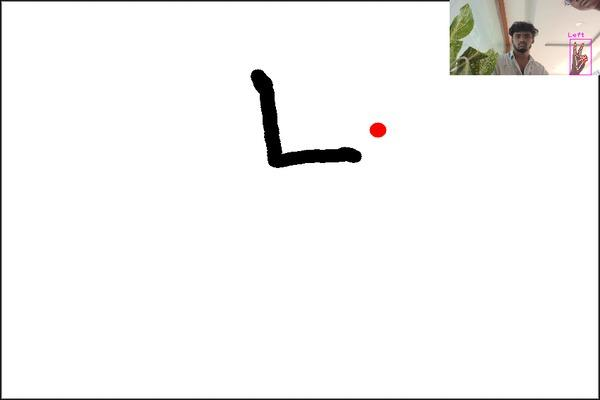L: (241, 62, 369, 177)
